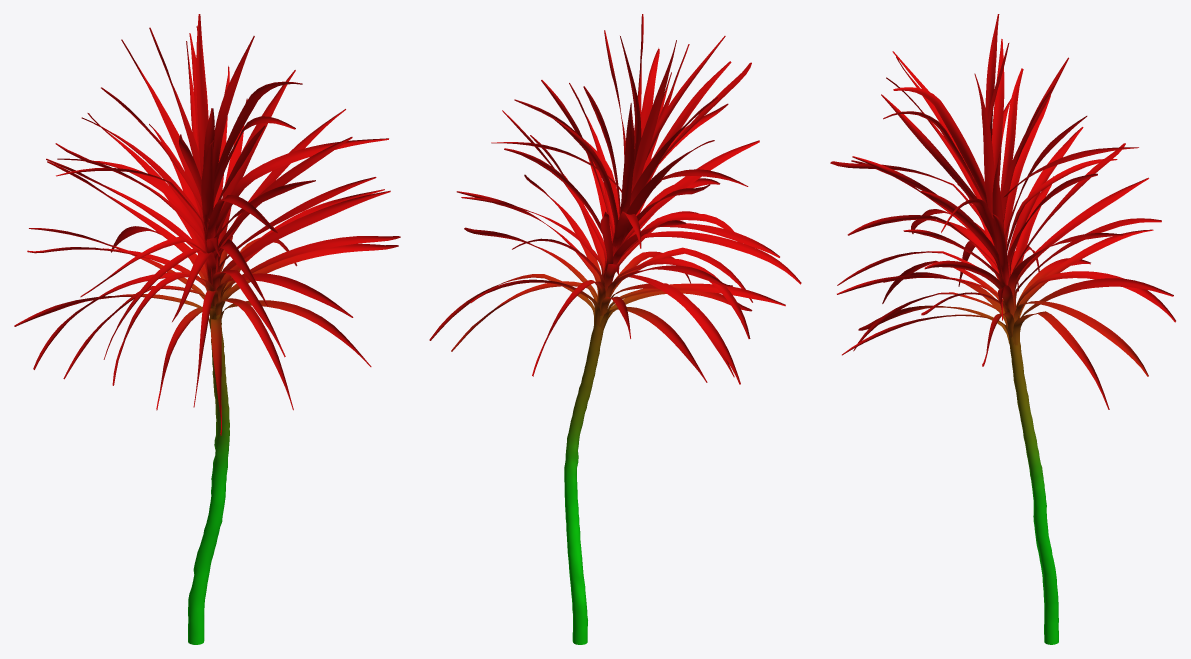
File: Dragon Tree_LOD0_Var4_wfypejzha.fbx
3 views of the same model, side by side, from view 1: azimuth 30°, elevation 25°; view 2: azimuth 150°, elevation 25°; view 3: azimuth 270°, elevation 25° (orthographic). The views are drawn at different scales.
Visible parts, largest first — view 1: _0c2d_Var4_LOD0; view 2: _0c2d_Var4_LOD0; view 3: _0c2d_Var4_LOD0.
Boxes of the visible parts, x1=… form: _0c2d_Var4_LOD0: x1=14, y1=14, x2=400, y2=644; _0c2d_Var4_LOD0: x1=429, y1=14, x2=801, y2=644; _0c2d_Var4_LOD0: x1=830, y1=14, x2=1175, y2=644.
Bounding box in the file's own units: 58.66 × 110 × 57.98.
